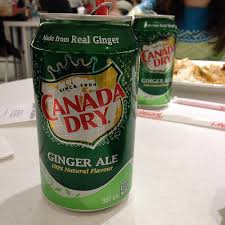Lata: (28, 9, 143, 216)
